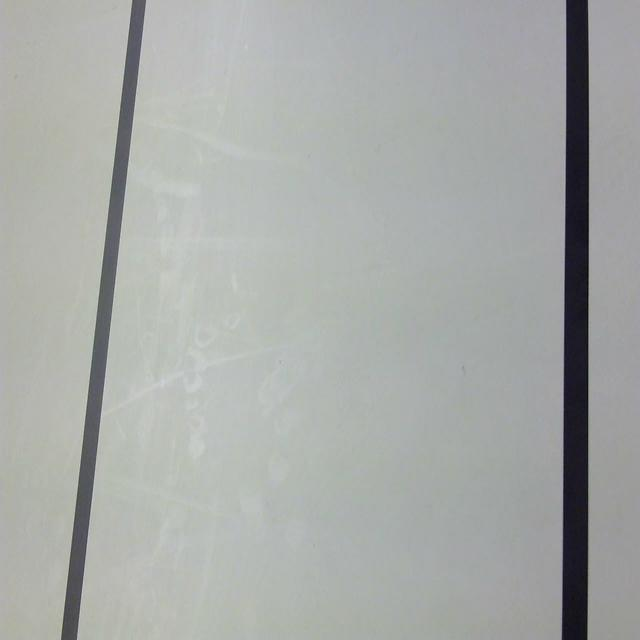tape: (46, 0, 170, 640), (552, 0, 608, 640)
